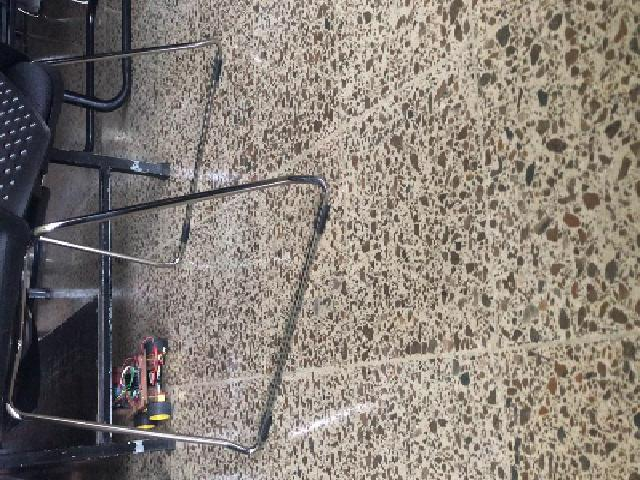Robot: (110, 337, 173, 428)
